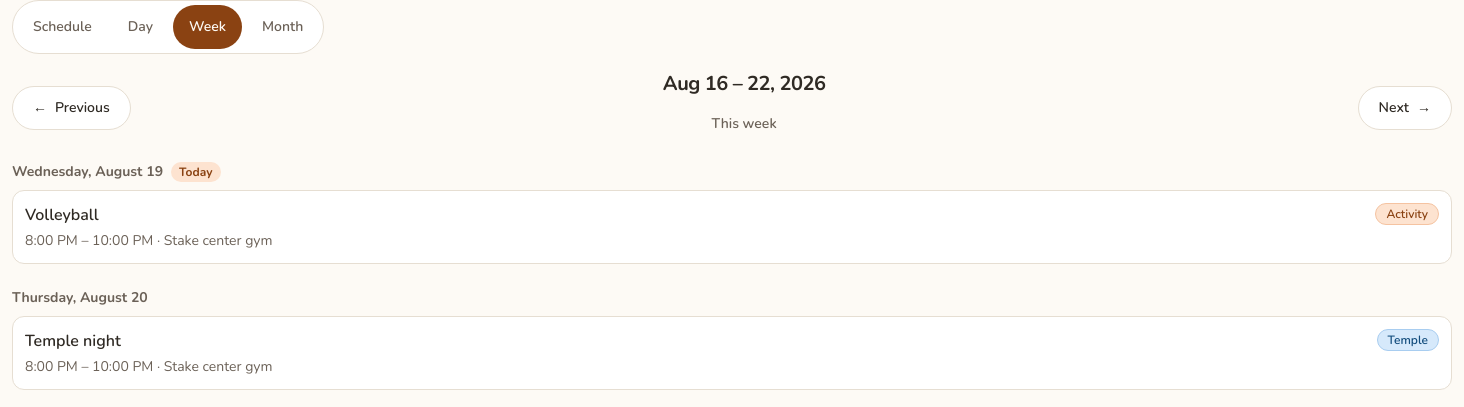
Test: CalendarView › moves a week at a time, and says so in its heading
Expected: the heading "Aug 16 – 22, 2026" is shown, [663, 70, 826, 98]
Step 1. Click the button with aria-label "Next week" → point(1405, 108), box [1358, 86, 1452, 130]
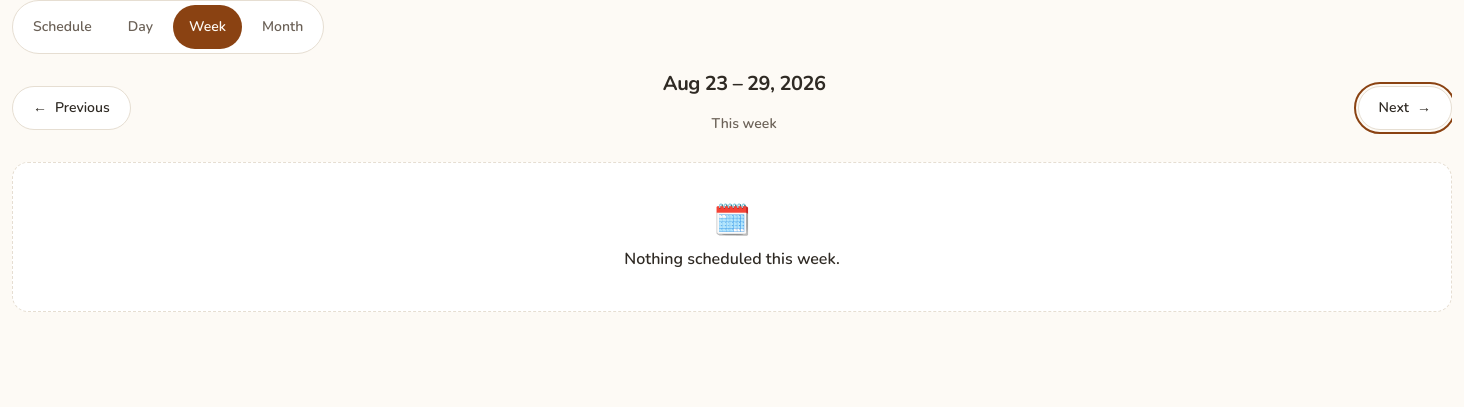
Now the heading "Aug 23 – 29, 2026" is shown, box [663, 70, 826, 98]
Now the text "Nothing scheduled this week." is shown, box [624, 248, 840, 270]
Step 2. Click the button "This week" → point(744, 124), box [692, 102, 797, 146]
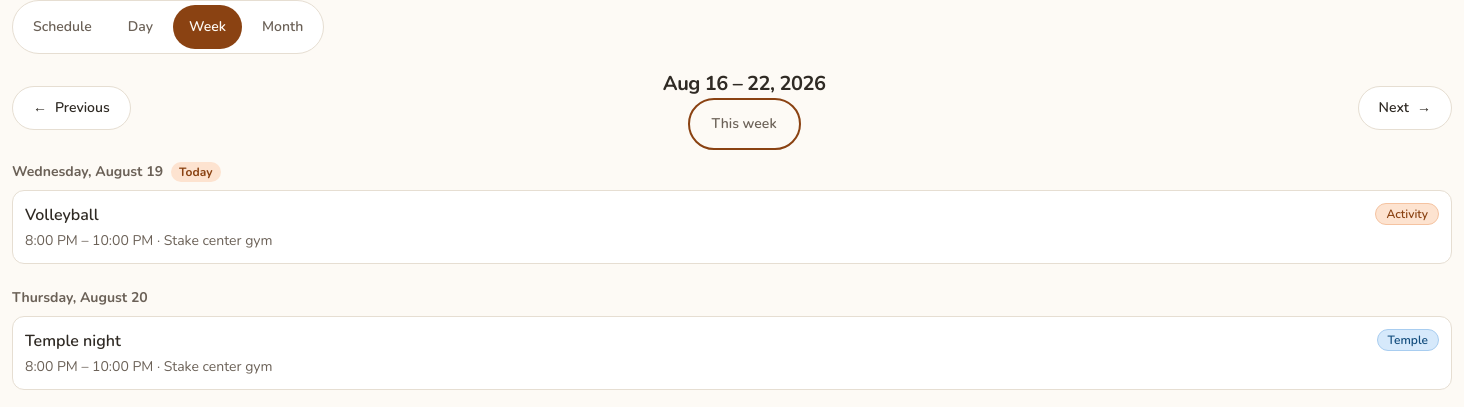
Now the text "Volleyball" is shown, box [25, 203, 99, 227]
